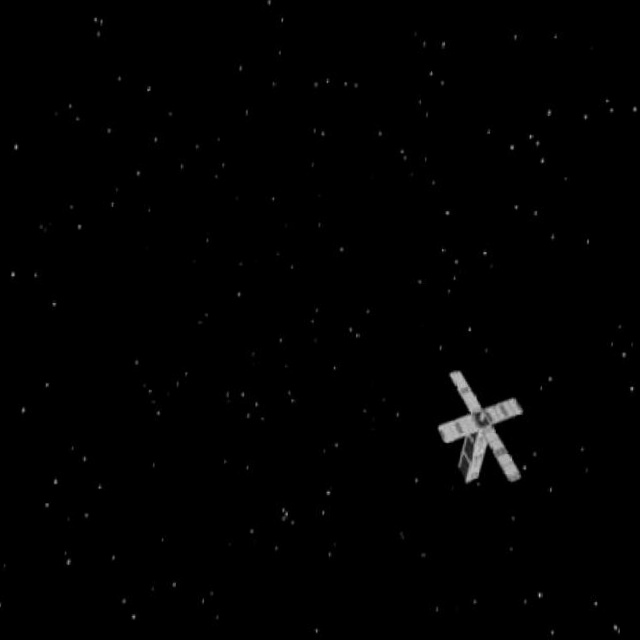medium_debris: (429, 358, 540, 501)
